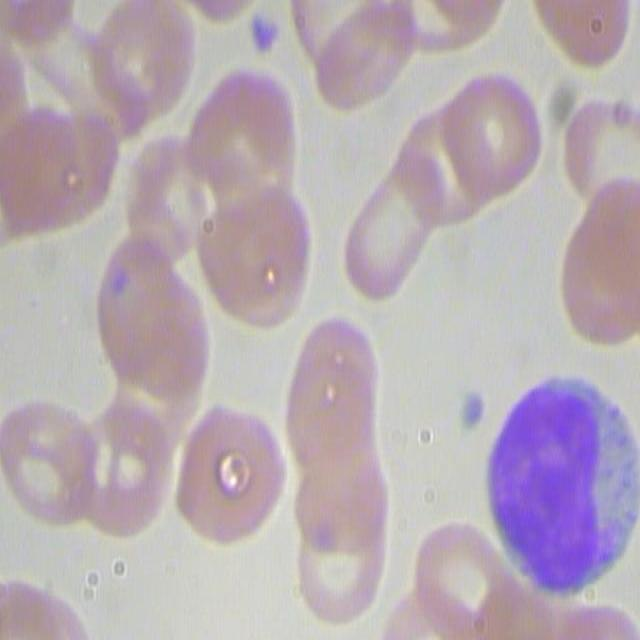RBC: (98, 238, 209, 407), (28, 9, 146, 140), (199, 187, 307, 327), (350, 144, 444, 302), (179, 410, 285, 547), (196, 80, 299, 210), (96, 0, 199, 116), (565, 187, 640, 344), (414, 522, 513, 638), (4, 404, 94, 528), (71, 420, 165, 536), (450, 82, 539, 202), (401, 117, 494, 229), (288, 356, 375, 470), (11, 113, 100, 224), (318, 7, 419, 104), (19, 108, 120, 199), (304, 521, 386, 621), (295, 457, 383, 549), (564, 100, 640, 203), (538, 0, 632, 67), (294, 0, 383, 62), (404, 0, 501, 47), (0, 593, 80, 640), (5, 0, 65, 51), (0, 44, 28, 118)
WBC: (481, 370, 632, 592)
platelets: (250, 18, 276, 56), (463, 389, 484, 429), (112, 268, 132, 296)
